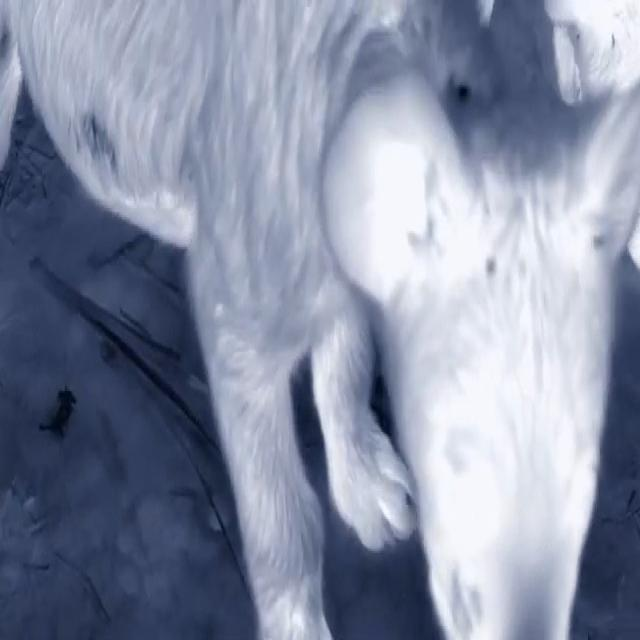animal: (1, 0, 636, 639)
